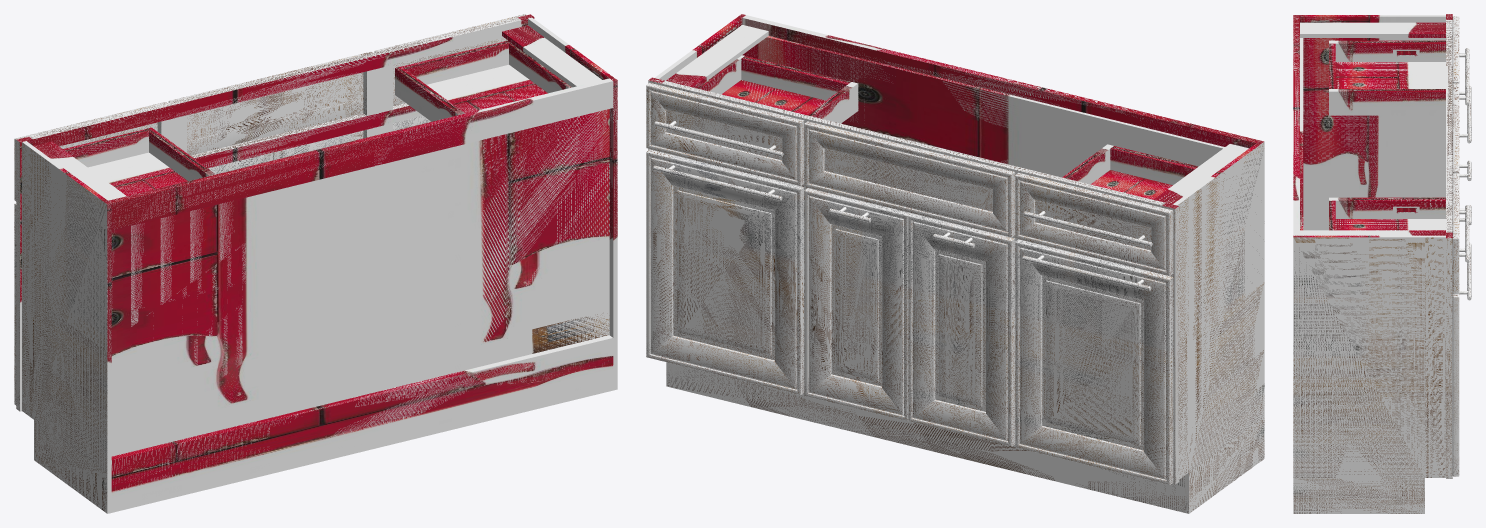
The picture shows the model from 3 angles, left to right: view 1: azimuth 30°, elevation 25°; view 2: azimuth 150°, elevation 25°; view 3: azimuth 270°, elevation 25°; orthographic projection. The views are drawn at different scales.
Visible parts, largest first — view 1: mesh4_mesh4-geometry, mesh13_mesh13-geometry, mesh7_mesh7-geometry, mesh3_mesh3-geometry, mesh5_mesh5-geometry, mesh23_mesh23-geometry, mesh20_mesh20-geometry, mesh21_mesh21-geometry, mesh6_mesh6-geometry, mesh8_mesh8-geometry, mesh10_mesh10-geometry, mesh29_mesh29-geometry (+8 smaller); view 2: mesh4_mesh4-geometry, mesh7_mesh7-geometry, mesh52_mesh52-geometry, mesh42_mesh42-geometry, mesh14_mesh14-geometry, mesh60_mesh60-geometry, mesh46_mesh46-geometry, mesh45_mesh45-geometry, mesh59_mesh59-geometry, mesh31_mesh31-geometry, mesh3_mesh3-geometry, mesh32_mesh32-geometry (+32 smaller); view 3: mesh10_mesh10-geometry, mesh7_mesh7-geometry, mesh20_mesh20-geometry, mesh9_mesh9-geometry, mesh11_mesh11-geometry, mesh23_mesh23-geometry, mesh16_mesh16-geometry, mesh6_mesh6-geometry, mesh2_mesh2-geometry, mesh3_mesh3-geometry, mesh5_mesh5-geometry, mesh31_mesh31-geometry (+12 smaller).
Part boxes in pixels (<box>): mesh4_mesh4-geometry: <box>111,109,609,456</box>; mesh13_mesh13-geometry: <box>111,335,613,512</box>; mesh7_mesh7-geometry: <box>34,149,111,473</box>; mesh3_mesh3-geometry: <box>108,78,613,230</box>; mesh5_mesh5-geometry: <box>29,17,521,168</box>; mesh23_mesh23-geometry: <box>88,65,547,195</box>; mesh20_mesh20-geometry: <box>146,40,571,180</box>; mesh21_mesh21-geometry: <box>63,41,508,167</box>; mesh6_mesh6-geometry: <box>22,141,37,419</box>; mesh8_mesh8-geometry: <box>34,420,111,513</box>; mesh10_mesh10-geometry: <box>539,26,617,349</box>; mesh29_mesh29-geometry: <box>202,82,344,136</box>; mesh4_mesh4-geometry: <box>742,36,1224,177</box>; mesh7_mesh7-geometry: <box>1185,140,1264,472</box>; mesh52_mesh52-geometry: <box>947,263,1132,436</box>; mesh42_mesh42-geometry: <box>685,199,870,372</box>; mesh14_mesh14-geometry: <box>670,363,1184,512</box>; mesh60_mesh60-geometry: <box>974,270,1173,446</box>; mesh46_mesh46-geometry: <box>763,218,908,382</box>; mesh45_mesh45-geometry: <box>646,190,843,366</box>; mesh59_mesh59-geometry: <box>908,254,1053,417</box>; mesh31_mesh31-geometry: <box>677,90,1141,225</box>; mesh3_mesh3-geometry: <box>742,15,1259,148</box>; mesh32_mesh32-geometry: <box>677,133,1140,268</box>; mesh10_mesh10-geometry: <box>1293,235,1424,477</box>; mesh7_mesh7-geometry: <box>1293,15,1424,230</box>; mesh20_mesh20-geometry: <box>1329,40,1445,218</box>; mesh9_mesh9-geometry: <box>1425,235,1445,477</box>; mesh11_mesh11-geometry: <box>1293,478,1424,513</box>; mesh23_mesh23-geometry: <box>1335,62,1445,230</box>; mesh16_mesh16-geometry: <box>1300,22,1445,37</box>; mesh6_mesh6-geometry: <box>1425,15,1445,197</box>; mesh2_mesh2-geometry: <box>1446,14,1452,478</box>; mesh3_mesh3-geometry: <box>1293,16,1299,235</box>; mesh5_mesh5-geometry: <box>1446,19,1452,232</box>; mesh31_mesh31-geometry: <box>1452,29,1459,225</box>.
Bounding box in the file's own units: 0.8324 × 0.4786 × 0.2792.
